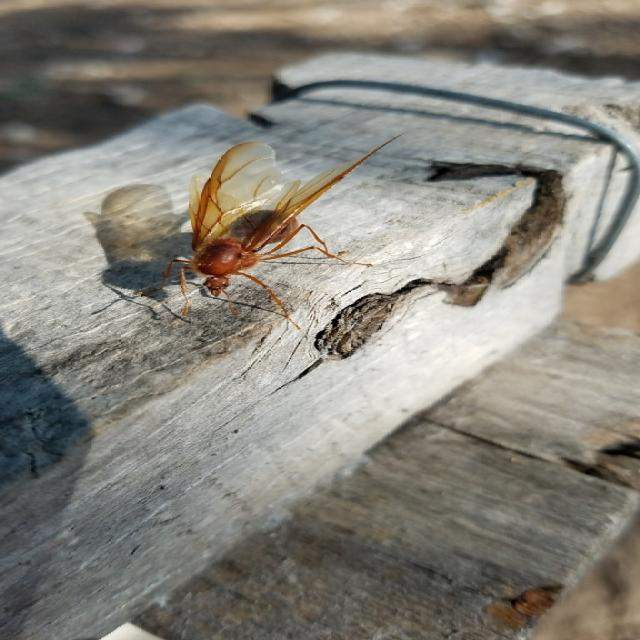Alive-Male-Alate: (133, 134, 403, 331)
